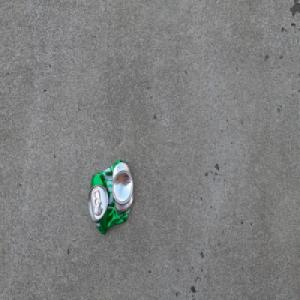SodaCan: (87, 159, 134, 235)
